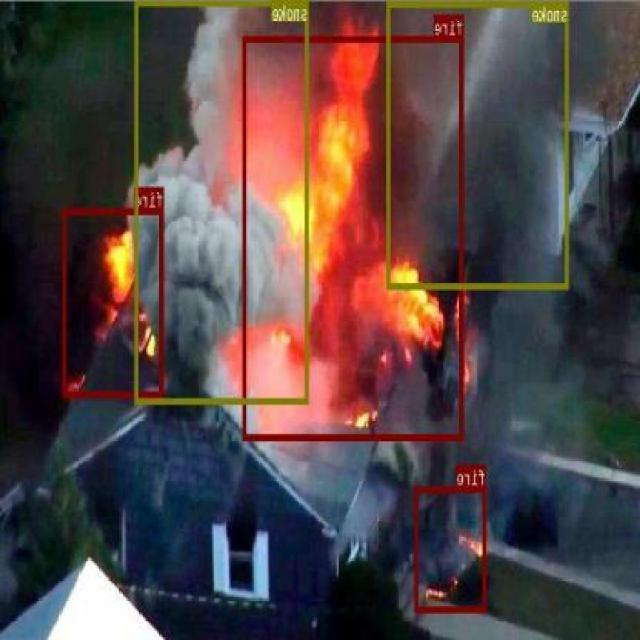Fire: (243, 34, 464, 438), (63, 207, 165, 396), (416, 484, 487, 610)
Smoke: (136, 0, 310, 402), (388, 0, 569, 288)
